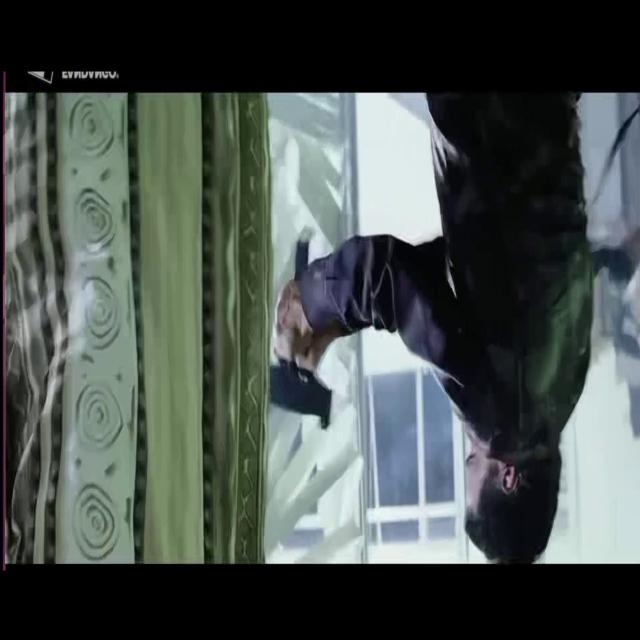weapons: (256, 250, 344, 426)
